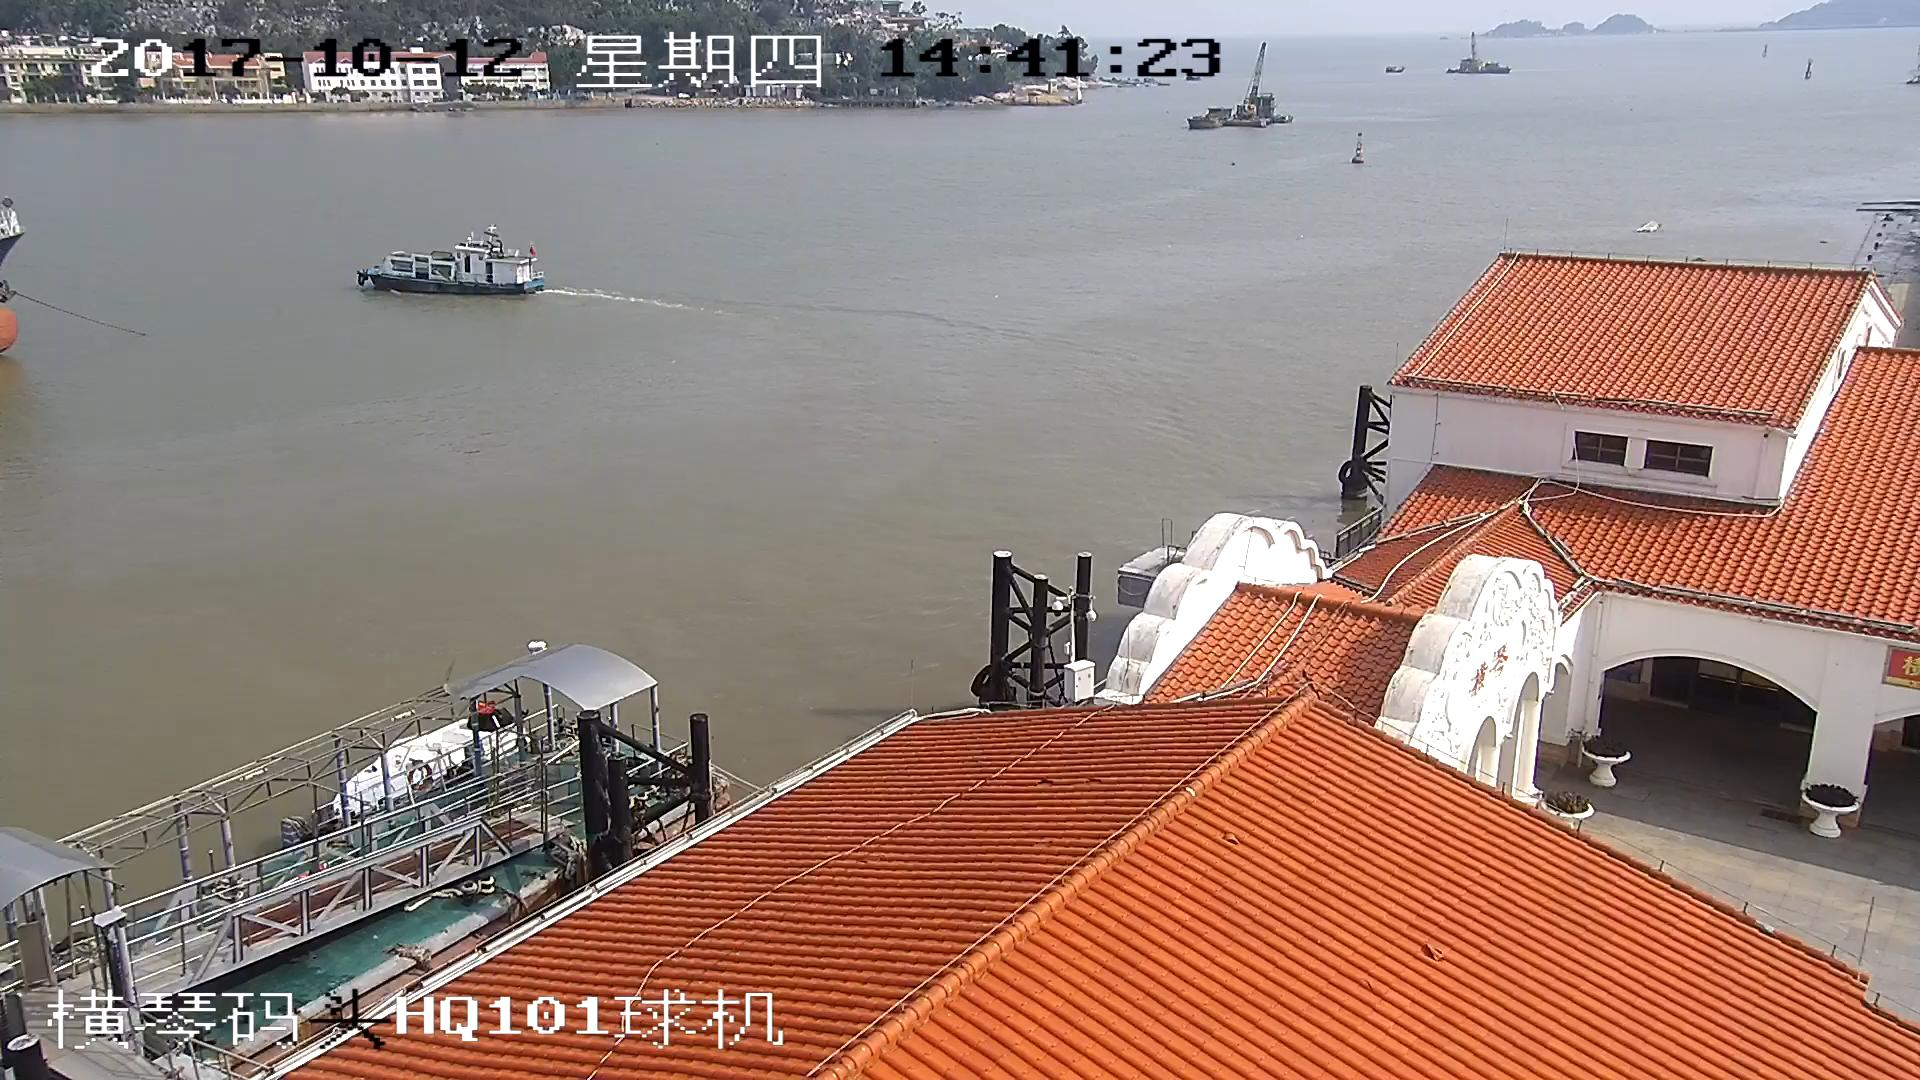fishing boat: (357, 228, 546, 294)
